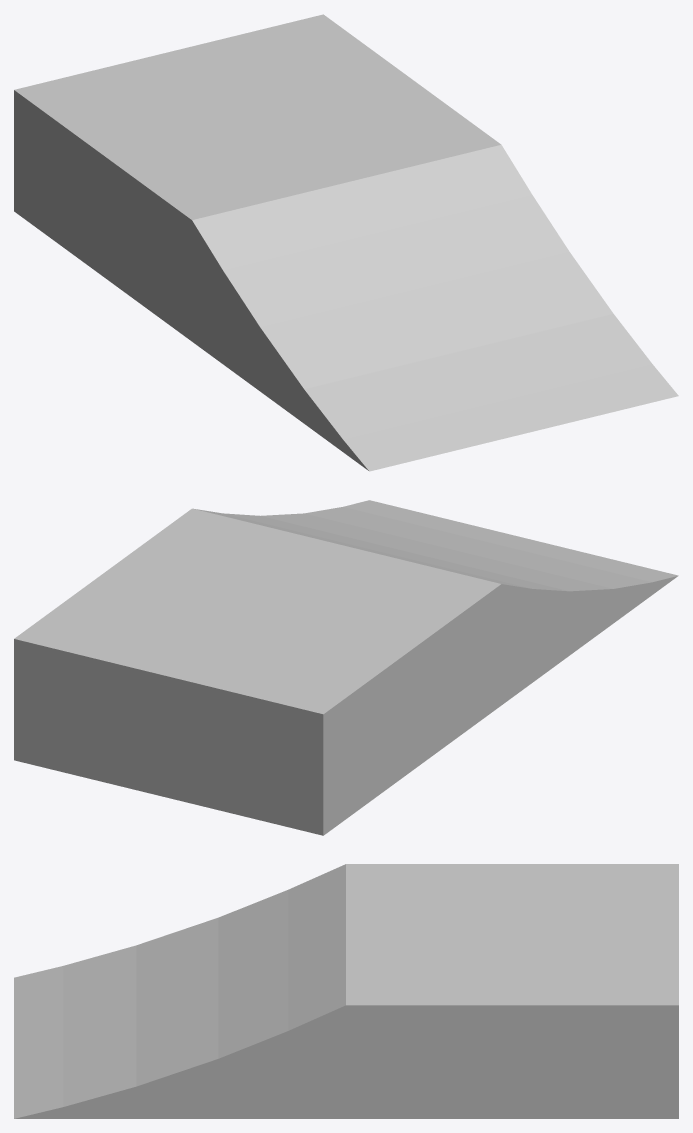
The model's file is FloatingTable.fbx.
3 renders of one model, top to bottom at view 1: azimuth 30°, elevation 25°; view 2: azimuth 150°, elevation 25°; view 3: azimuth 270°, elevation 25°, orthographic. The views are drawn at different scales.
Visible parts, largest first — view 1: FloatingTable; view 2: FloatingTable; view 3: FloatingTable.
Part boxes in pixels (x1=…): FloatingTable: x1=14, y1=14, x2=678, y2=471; FloatingTable: x1=14, y1=500, x2=678, y2=835; FloatingTable: x1=14, y1=864, x2=678, y2=1118.
Size of what is drawn, in the model's own units: 2 by 3.98 by 0.7502.
